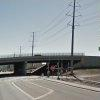Bridge: (4, 44, 89, 70)
